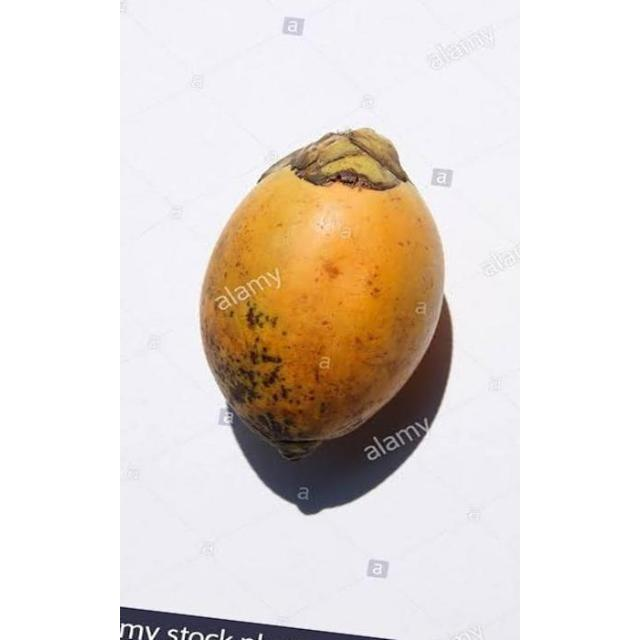good: (199, 129, 445, 463)
